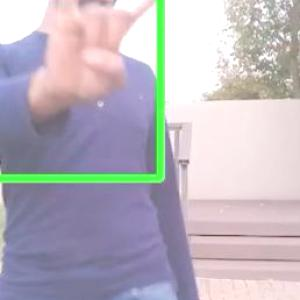takeoff-hand: (37, 0, 184, 108)
